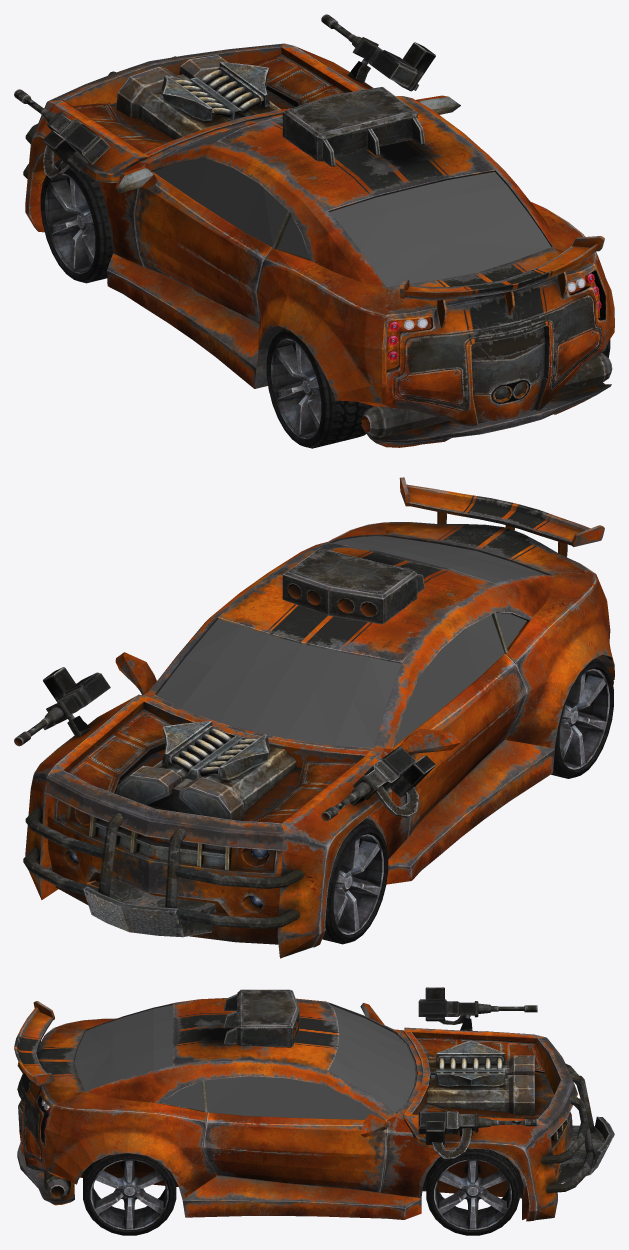
3 renders of one model, top to bottom at view 1: azimuth 30°, elevation 25°; view 2: azimuth 150°, elevation 25°; view 3: azimuth 270°, elevation 25°, orthographic. The views are drawn at different scales.
Parts seen in each view (by area): view 1: The Duke; view 2: The Duke; view 3: The Duke.
Boxes of the visible parts, x1,y1,x2,y2 form: The Duke: (14, 14, 614, 448); The Duke: (14, 477, 614, 958); The Duke: (14, 987, 614, 1235).
Bounding box in the file's own units: 83.51 × 48.91 × 150.
4 materials, 3 textured.
